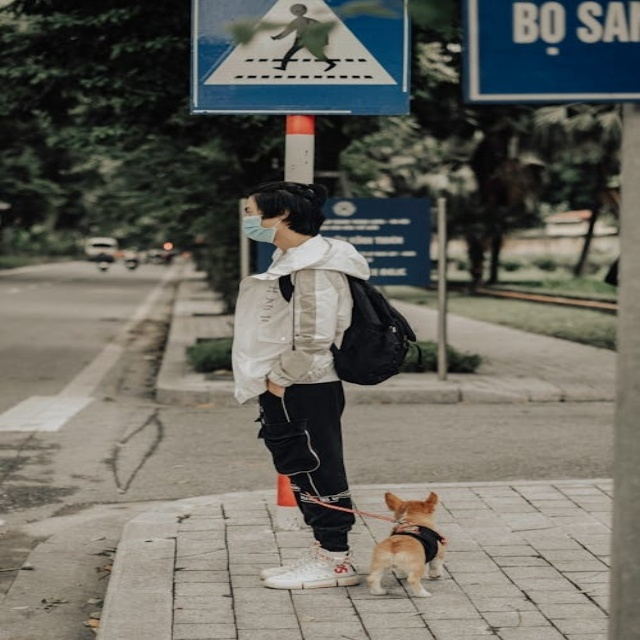Mascara: (241, 214, 280, 243)
Sin_gafas: (243, 206, 255, 214)
